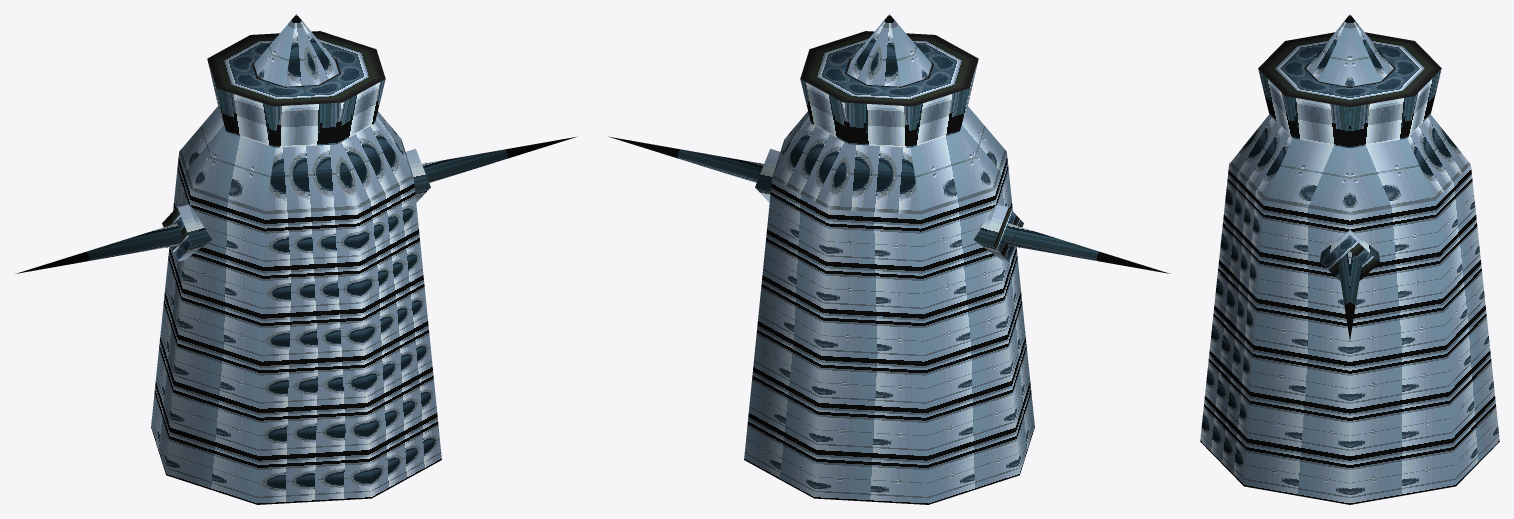
File: 3299IMIG07_03.gltf
3 renders of one model, left to right at view 1: azimuth 30°, elevation 25°; view 2: azimuth 150°, elevation 25°; view 3: azimuth 270°, elevation 25°, orthographic.
Parts seen in each view (by area): view 1: 3299IMIG07_03; view 2: 3299IMIG07_03; view 3: 3299IMIG07_03.
Part boxes in pixels (left/top/right/bottom): 3299IMIG07_03: left=15, top=14, right=577, bottom=504; 3299IMIG07_03: left=608, top=14, right=1170, bottom=504; 3299IMIG07_03: left=1200, top=14, right=1499, bottom=504.
Bounding box in the file's own units: 1.95 × 1.42 × 0.8999.
4 materials, 4 textured.
